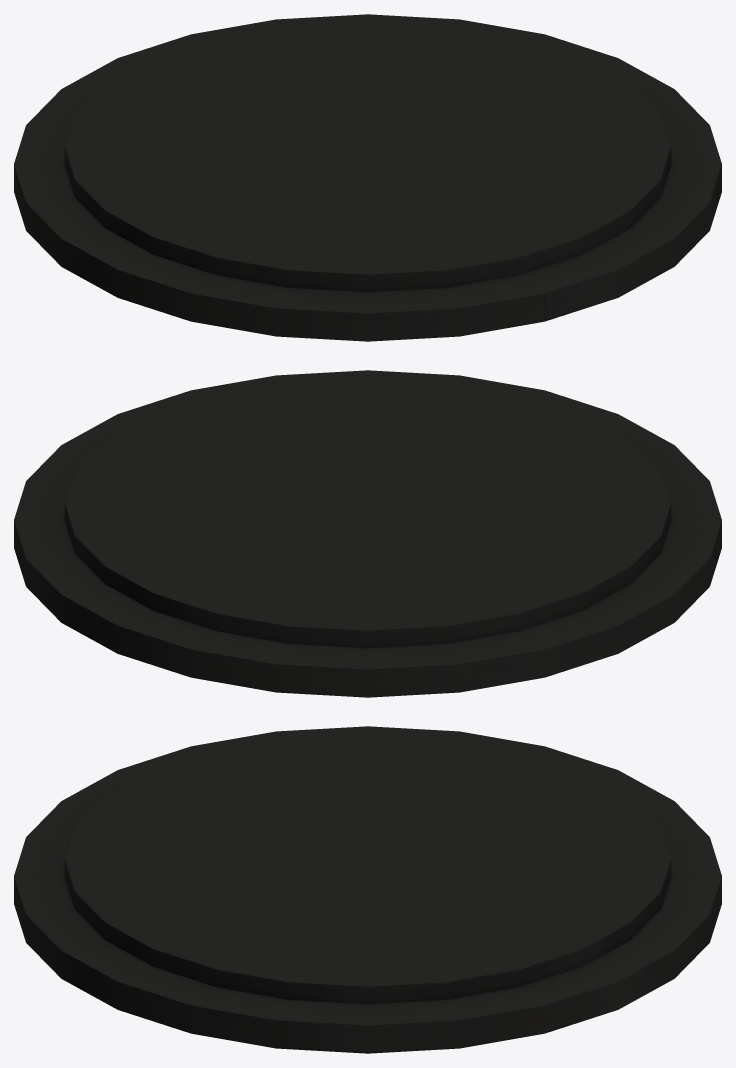
The model's file is lamp.fbx.
3 views of the same model, one above another, from view 1: azimuth 30°, elevation 25°; view 2: azimuth 150°, elevation 25°; view 3: azimuth 270°, elevation 25° (orthographic).
Parts seen in each view (by area): view 1: lamp; view 2: lamp; view 3: lamp.
Part boxes in pixels (x1,y1,x2,y2): lamp: (14, 14, 721, 341); lamp: (14, 370, 721, 697); lamp: (14, 726, 721, 1053).
Bounding box in the file's own units: 77.18 × 5.61 × 77.18.
Materials: 1 (1 with a texture image).
